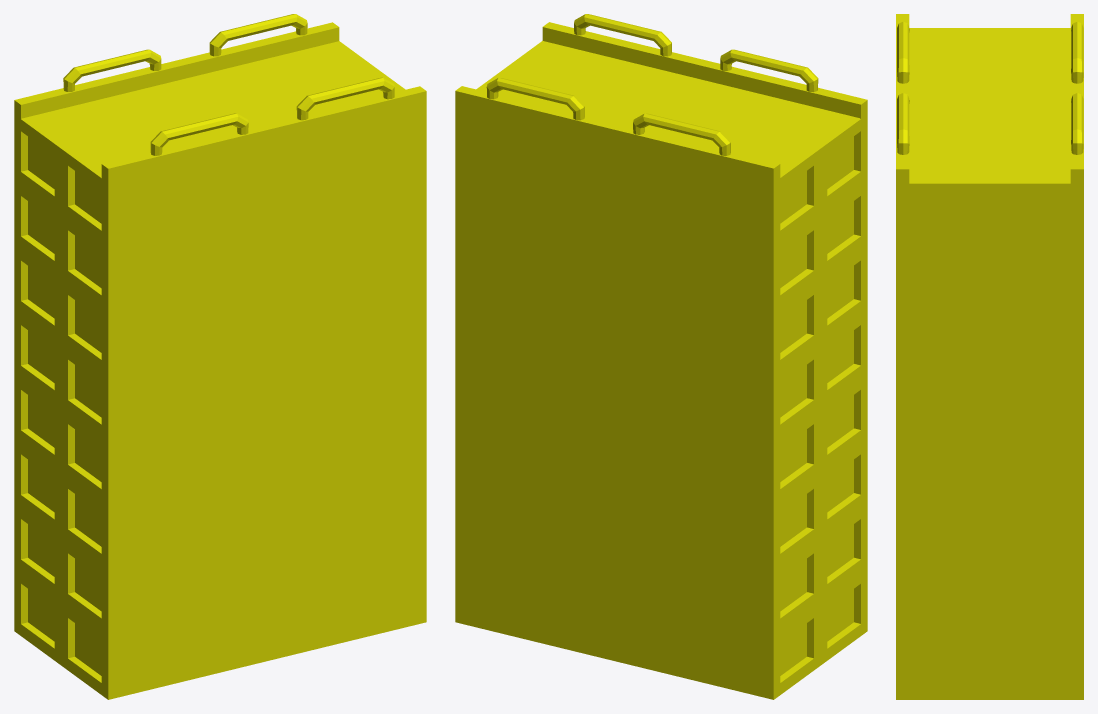
The picture shows the model from 3 angles, left to right: view 1: azimuth 30°, elevation 25°; view 2: azimuth 150°, elevation 25°; view 3: azimuth 270°, elevation 25°; orthographic projection.
Parts seen in each view (by area): view 1: bulding; view 2: bulding; view 3: bulding.
Boxes of the visible parts, x1,y1,x2,y2 form: bulding: (14,14,426,699); bulding: (455,14,867,699); bulding: (896,14,1083,699).
Bounding box in the file's own units: 6.54 × 10.82 × 3.34.
Materials: 1 (1 with a texture image).
